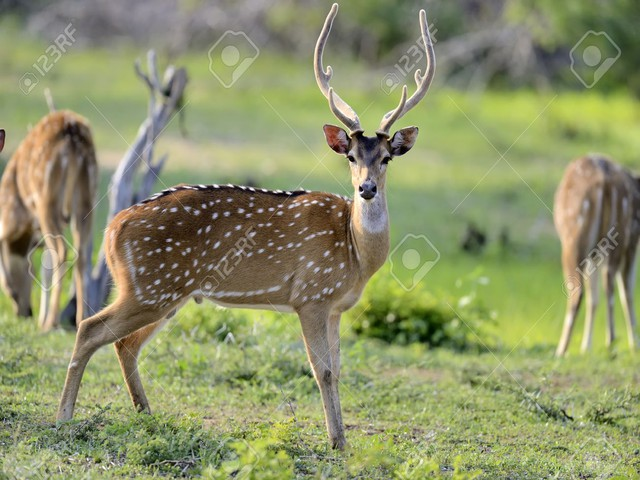deer: (53, 5, 447, 455), (4, 103, 102, 332), (551, 151, 640, 359)
